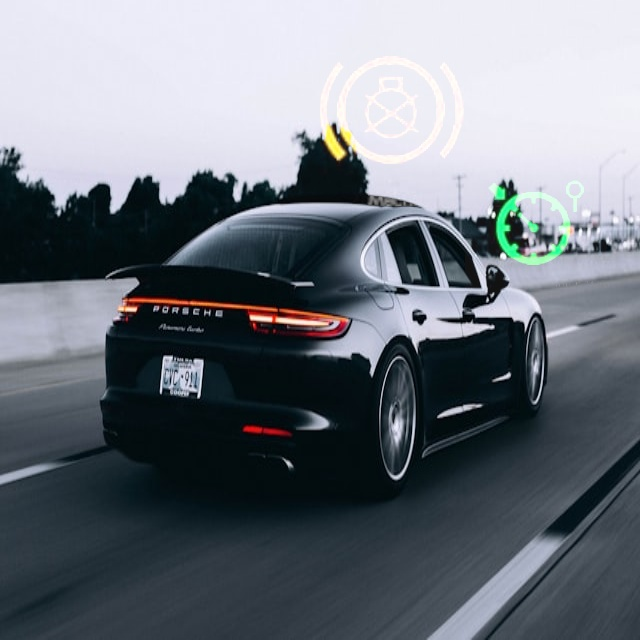symbol: (286, 7, 496, 217), (465, 153, 607, 295)
